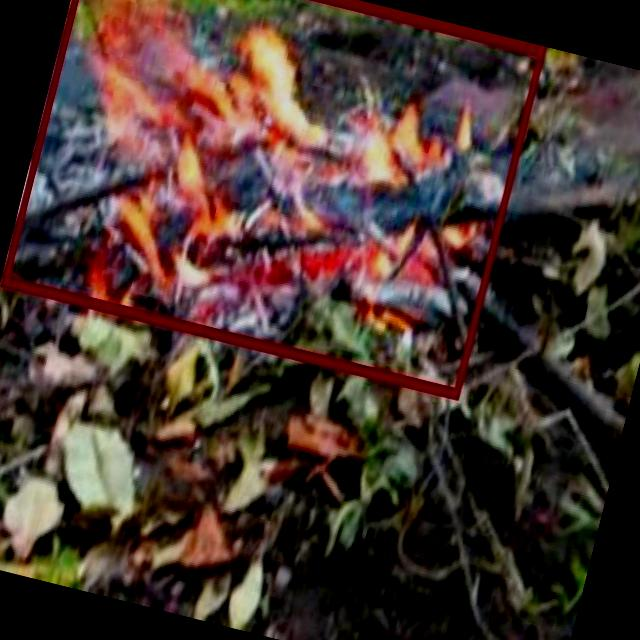fire: (0, 0, 545, 397)
